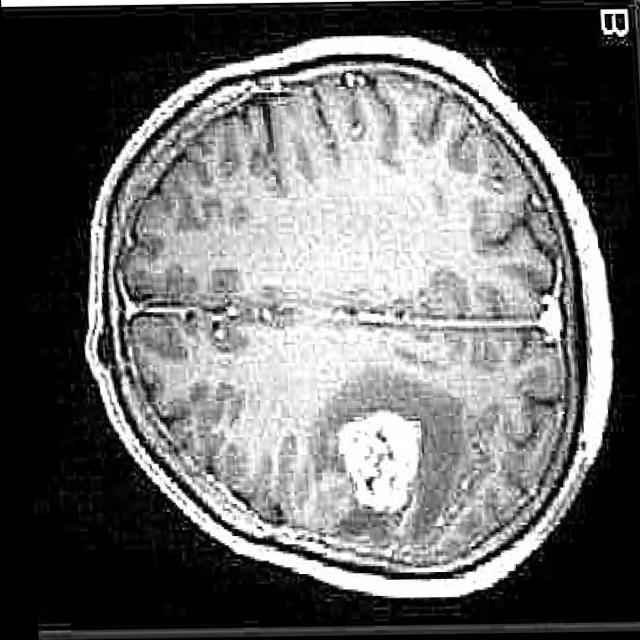Tumor: (298, 364, 470, 554)
